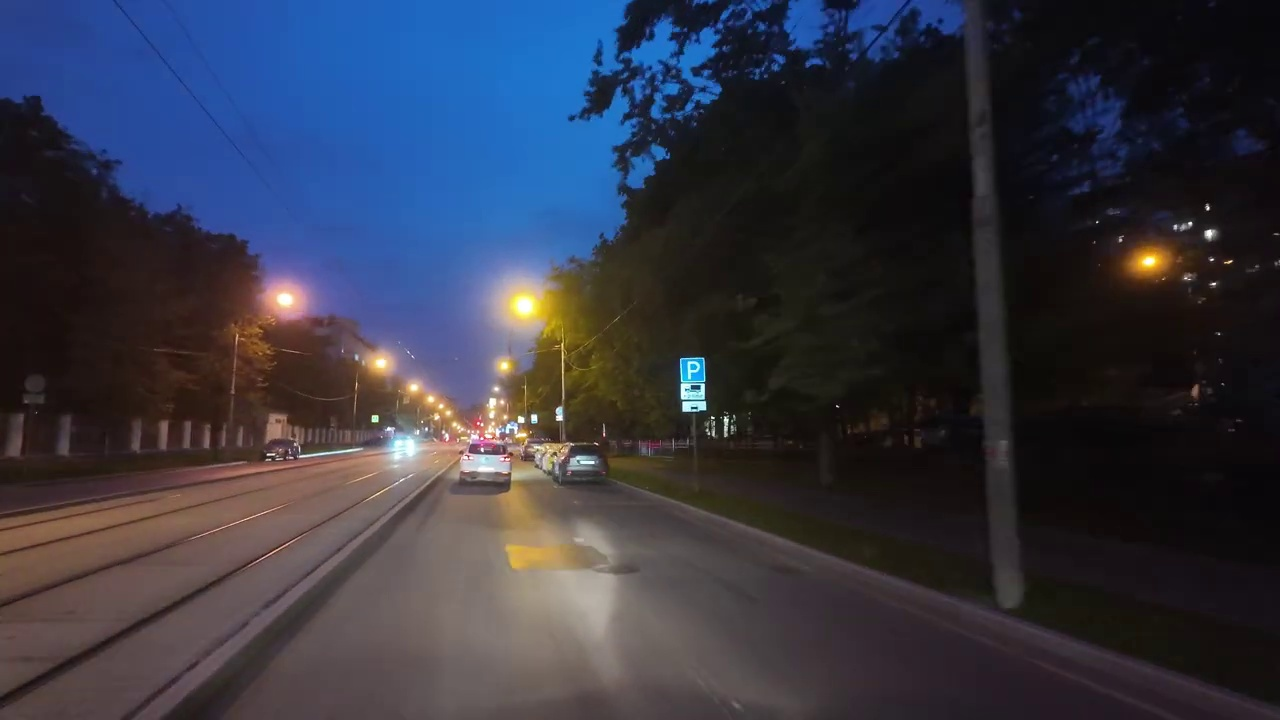acesa: (503, 285, 552, 330), (266, 284, 304, 319), (364, 350, 394, 378), (493, 355, 517, 378)
